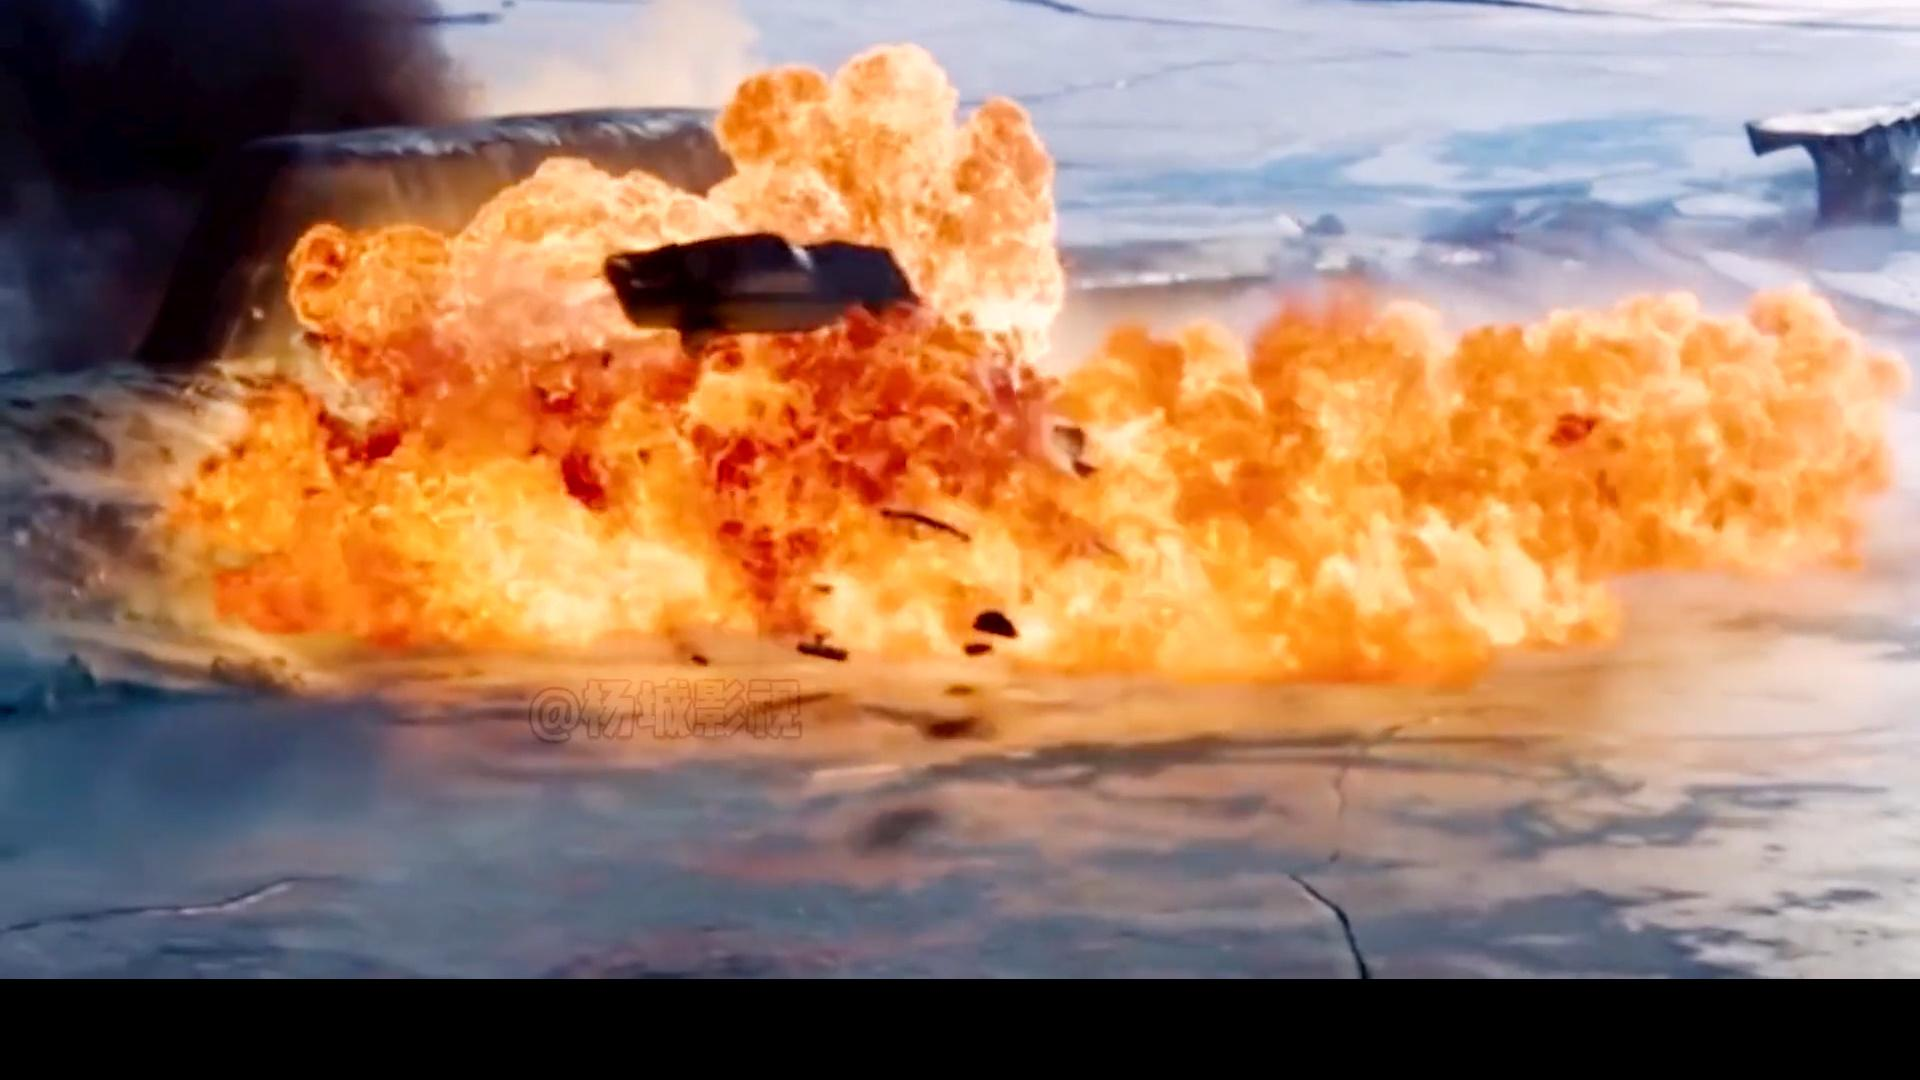fire: (166, 42, 1870, 708)
